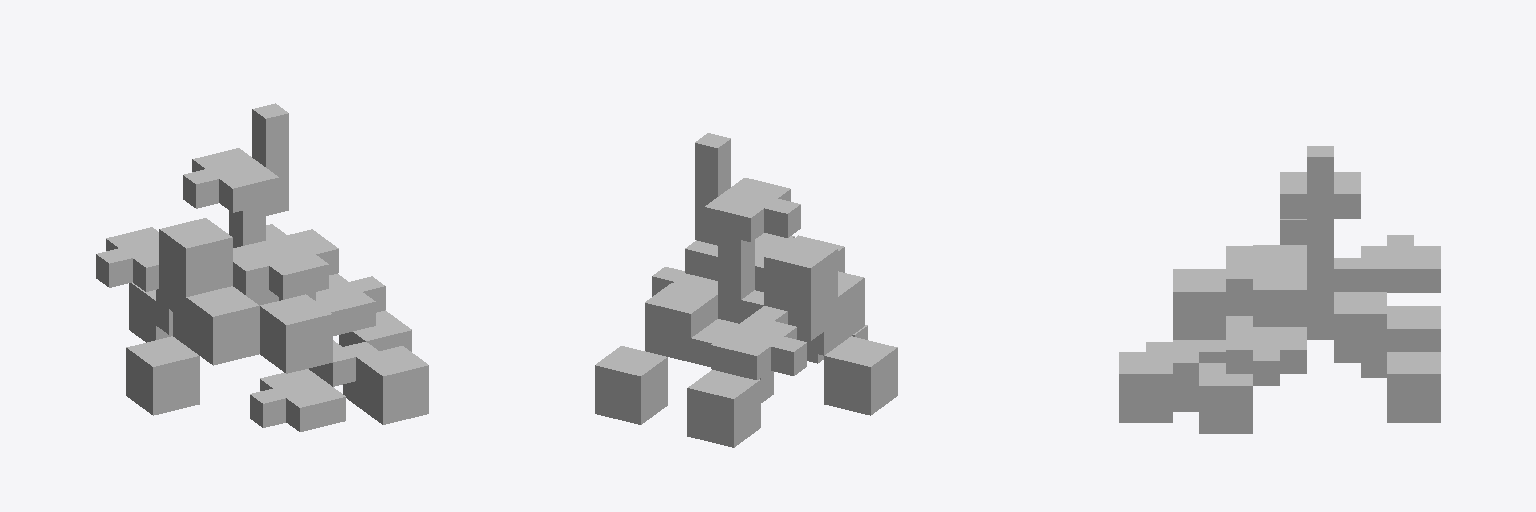
Rendered from 2_4 acer.obj.
The picture shows the model from 3 angles: view 1: azimuth 30°, elevation 25°; view 2: azimuth 150°, elevation 25°; view 3: azimuth 270°, elevation 25°; orthographic projection.
Parts seen in each view (by area): view 1: object 1; view 2: object 1; view 3: object 1.
Boxes of the visible parts, x1,y1,x2,y2 form: object 1: [96, 103, 428, 431]; object 1: [595, 133, 897, 447]; object 1: [1119, 146, 1440, 433].
Bounding box in the file's own units: 1 × 1 × 1.2.